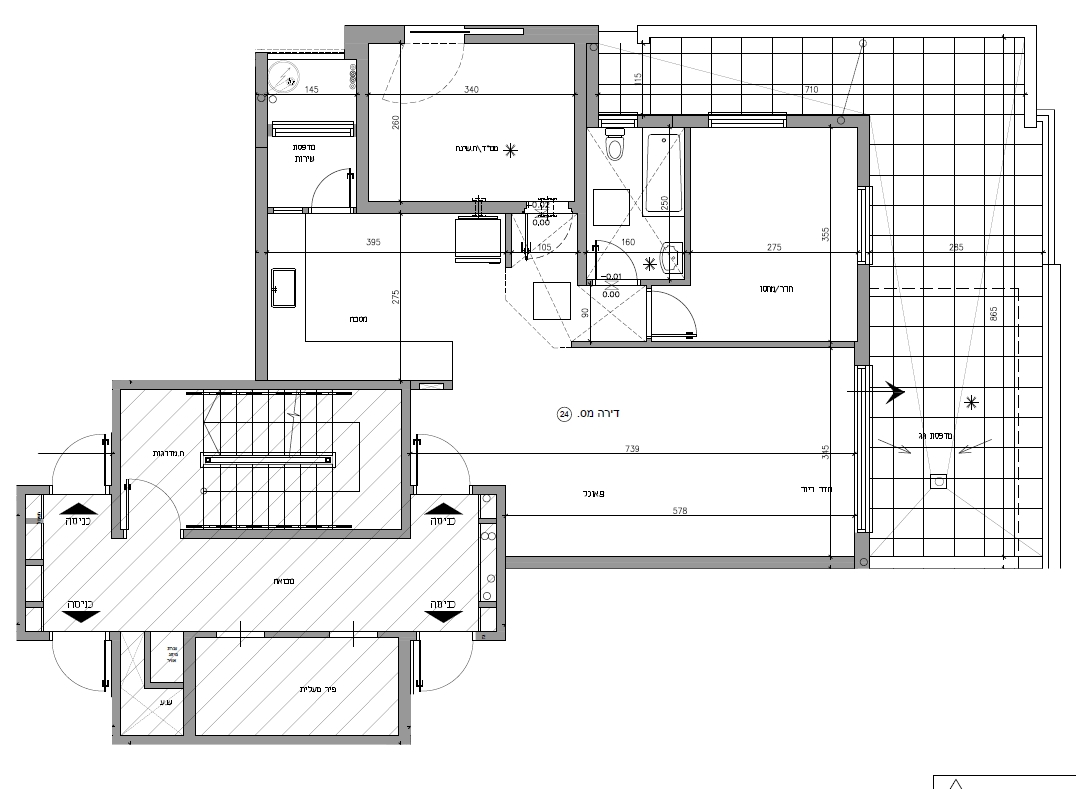door: (48, 645, 109, 707), (417, 641, 478, 703), (413, 421, 474, 483), (122, 468, 183, 521), (653, 287, 712, 337), (307, 160, 356, 202)
wall: (506, 555, 854, 567), (255, 167, 269, 374), (108, 734, 408, 743), (115, 381, 411, 390), (574, 43, 587, 200), (575, 27, 586, 212), (183, 528, 409, 537), (571, 342, 829, 348)
window: (855, 185, 867, 263), (271, 128, 353, 137), (708, 116, 783, 125), (599, 119, 639, 128), (274, 207, 304, 213)
